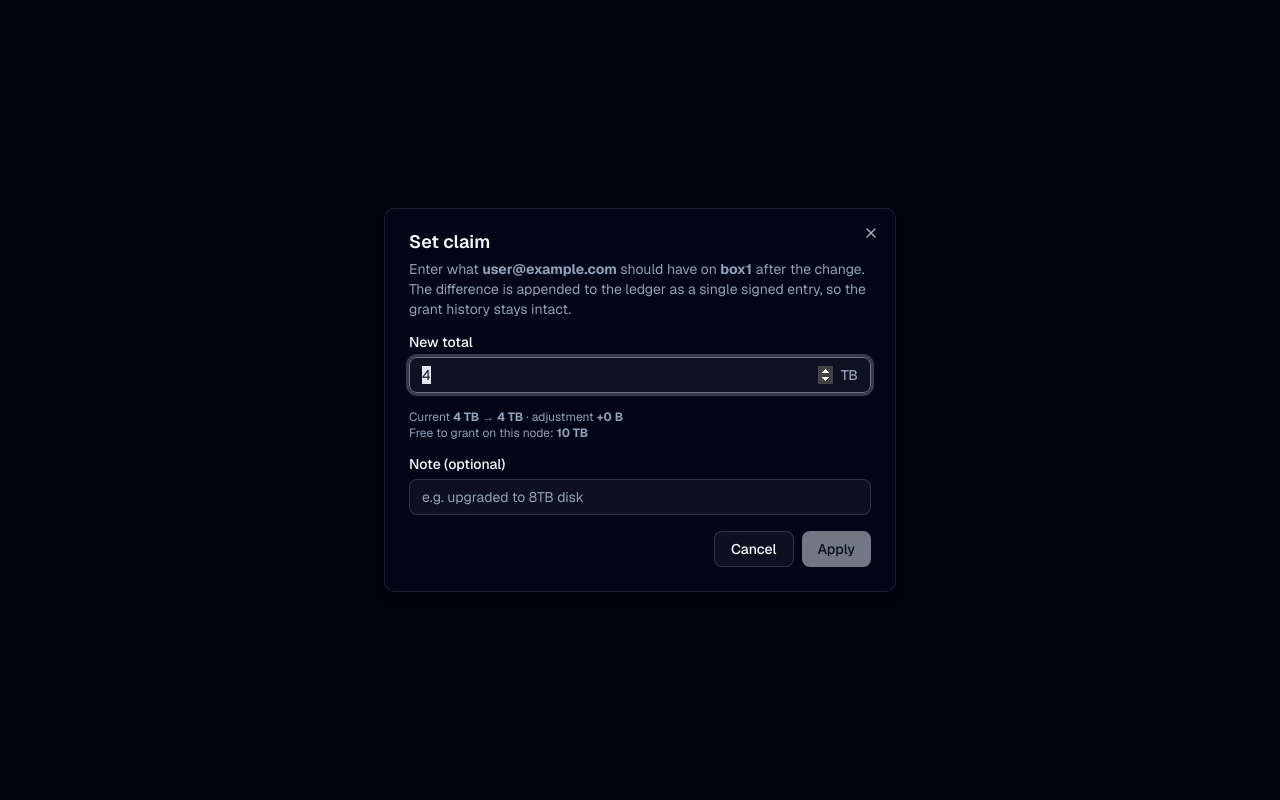
SetClaimDialog › re-enables Apply once the total actually changes
Replace the text in the number field labelled "New total" with "6" at (625, 375), box [410,357,841,393]
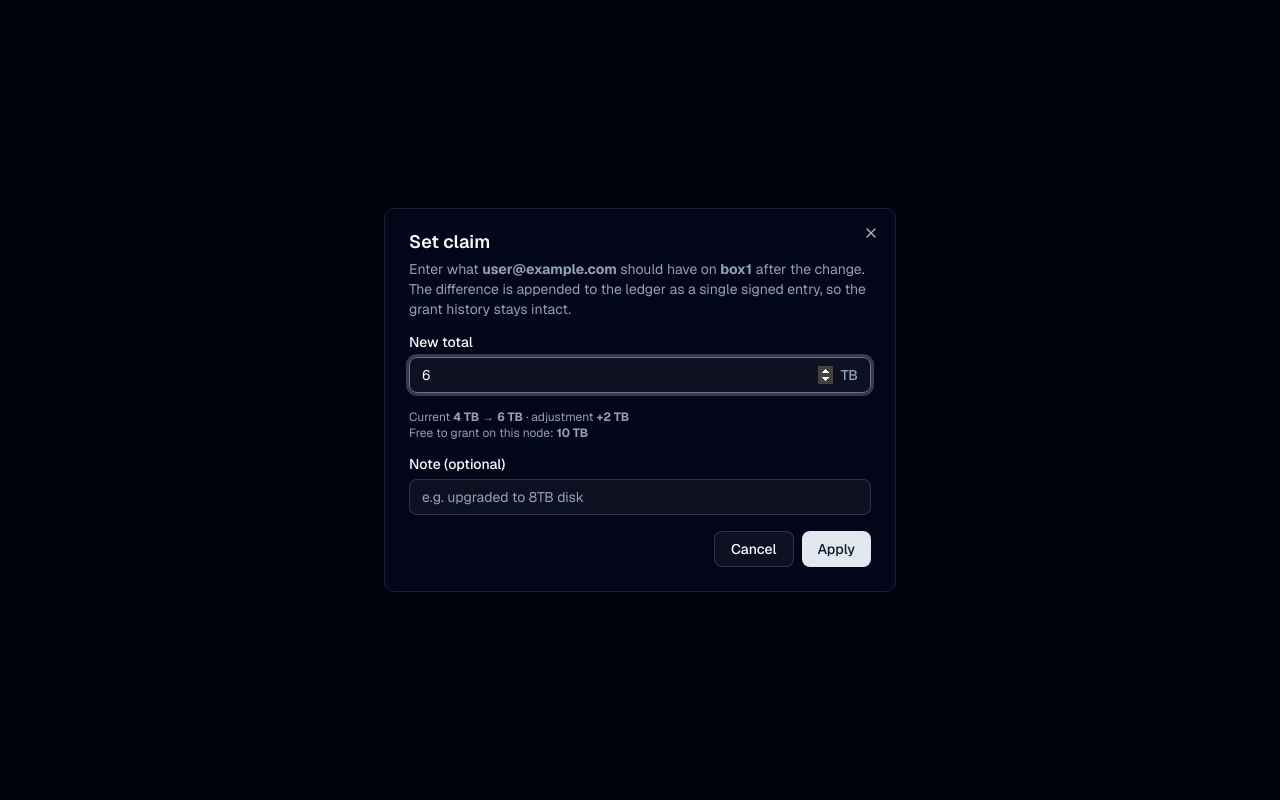
Expected: the button "Apply" is enabled, [802,531,871,567]
